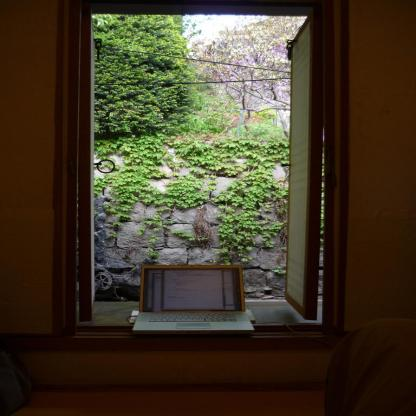board: (133, 259, 247, 332)
